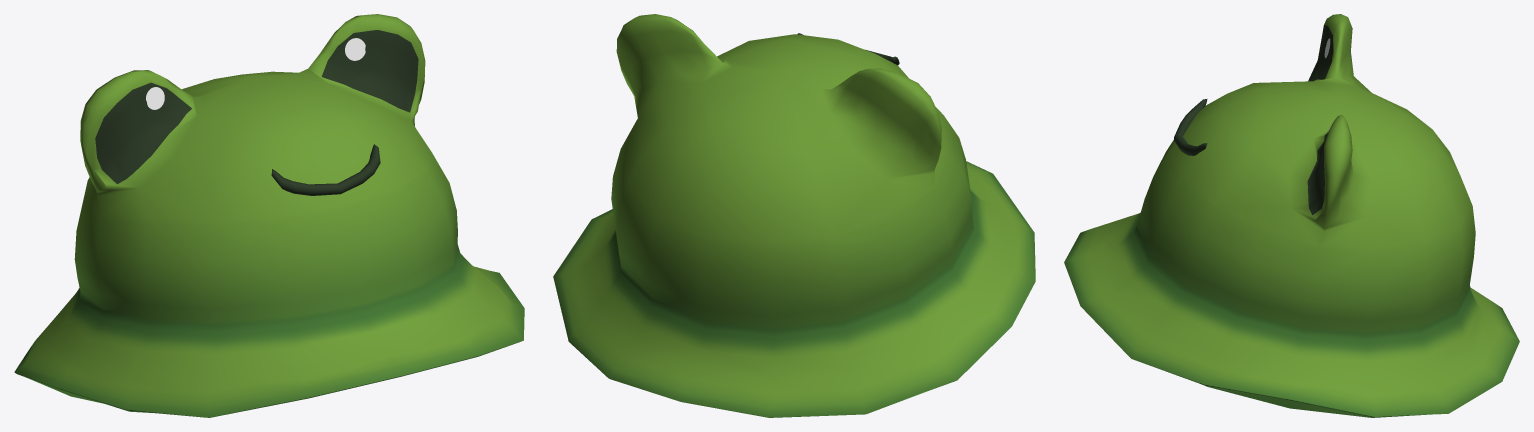
File: HAT_froggy.fbx
3 views of the same model, side by side, from view 1: azimuth 30°, elevation 25°; view 2: azimuth 150°, elevation 25°; view 3: azimuth 270°, elevation 25° (orthographic). The views are drawn at different scales.
Visible parts, largest first — view 1: froggy_hat; view 2: froggy_hat; view 3: froggy_hat.
Boxes of the visible parts, <box> form: froggy_hat: <box>14,14,524,417</box>; froggy_hat: <box>553,14,1035,417</box>; froggy_hat: <box>1064,14,1519,417</box>.
Size of the model in its own units: 85.82 by 57.88 by 85.59.
1 material, 1 textured.
